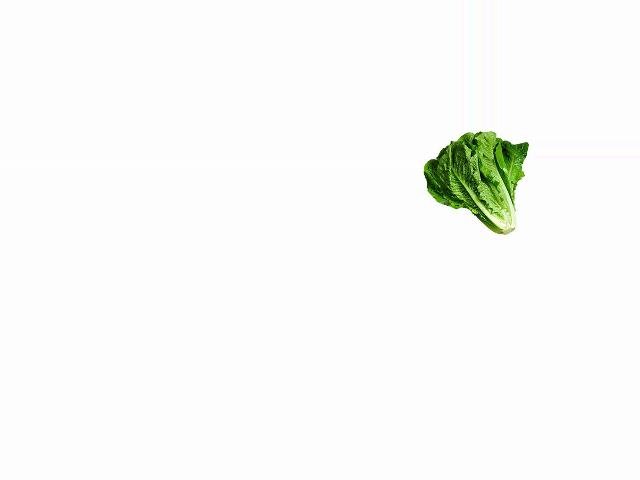lettuce: (422, 130, 526, 239)
